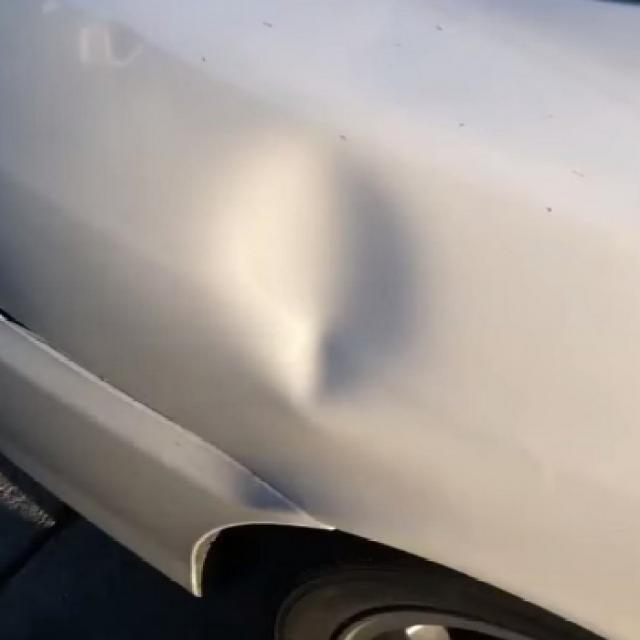dents: (158, 128, 484, 438)
